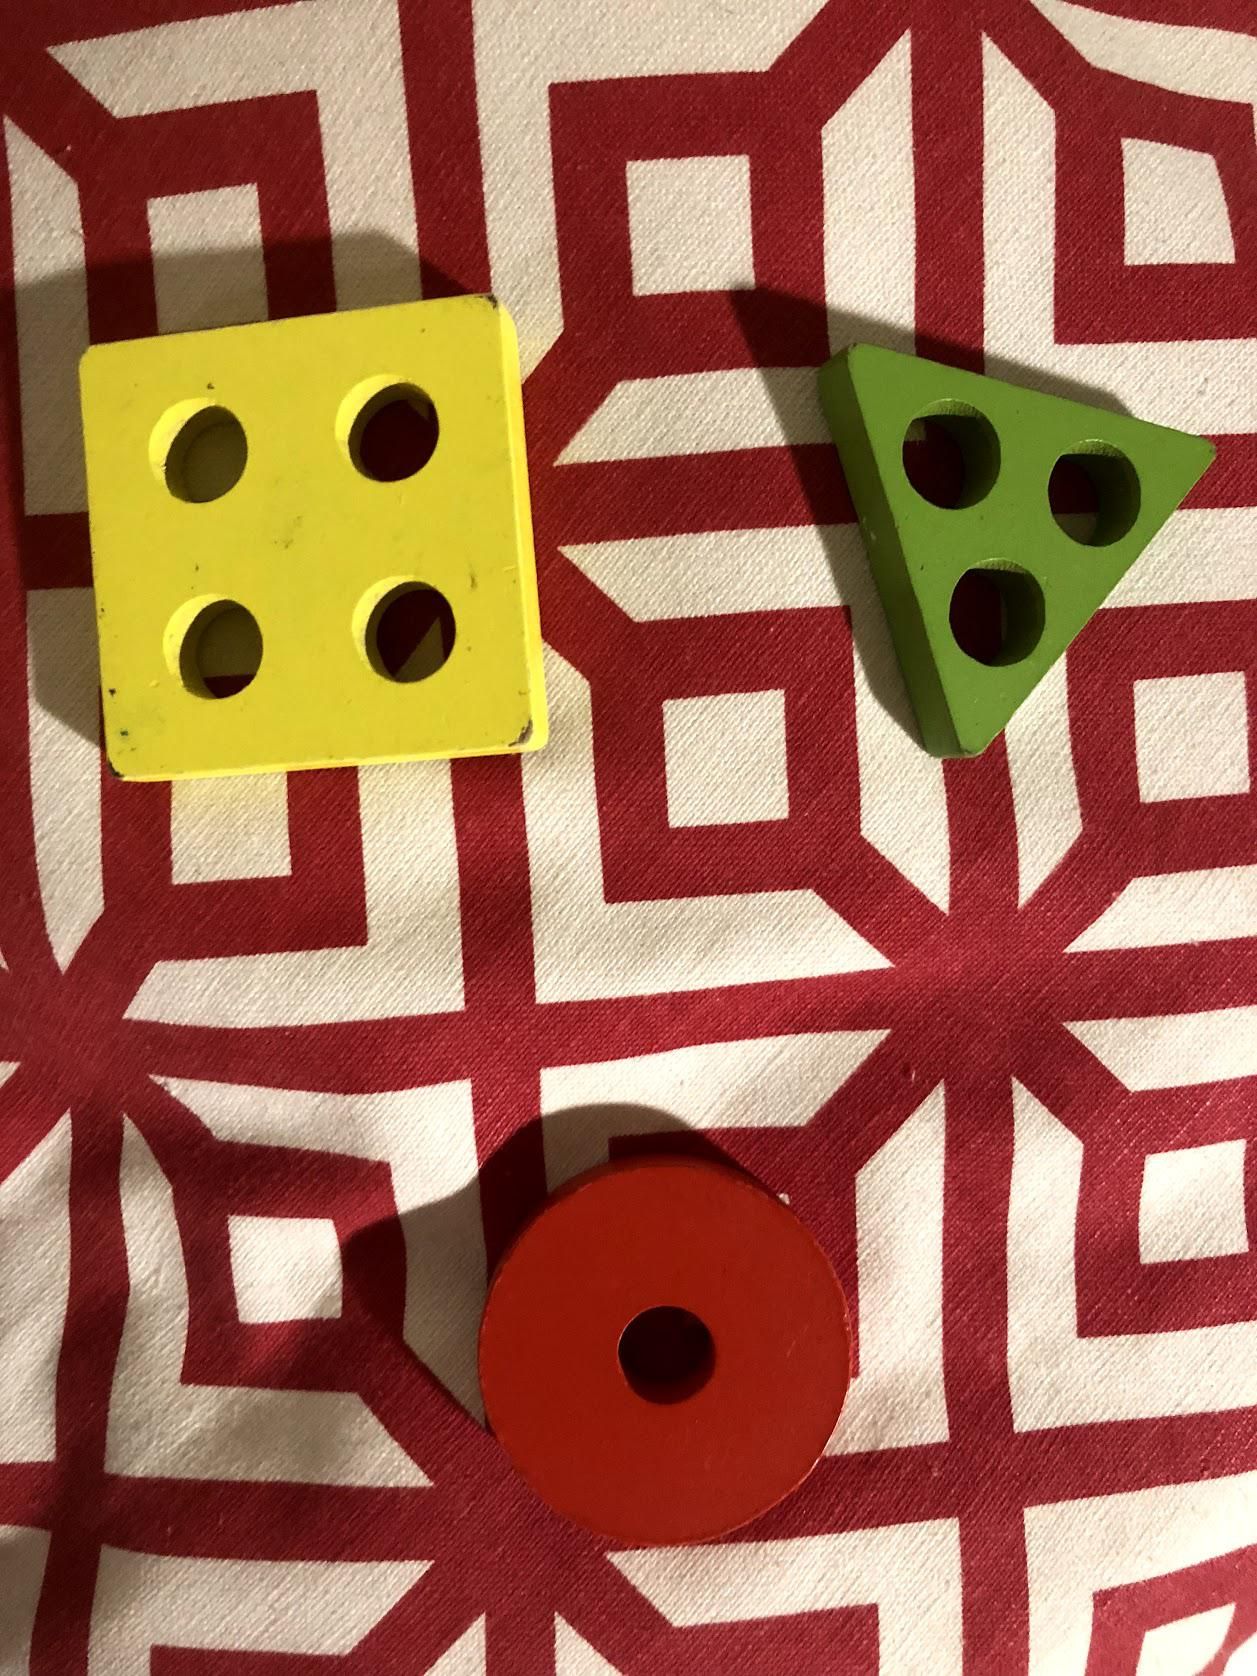Circle: (474, 1160, 856, 1551)
Square: (75, 302, 555, 787)
Triangle: (828, 335, 1221, 769)
